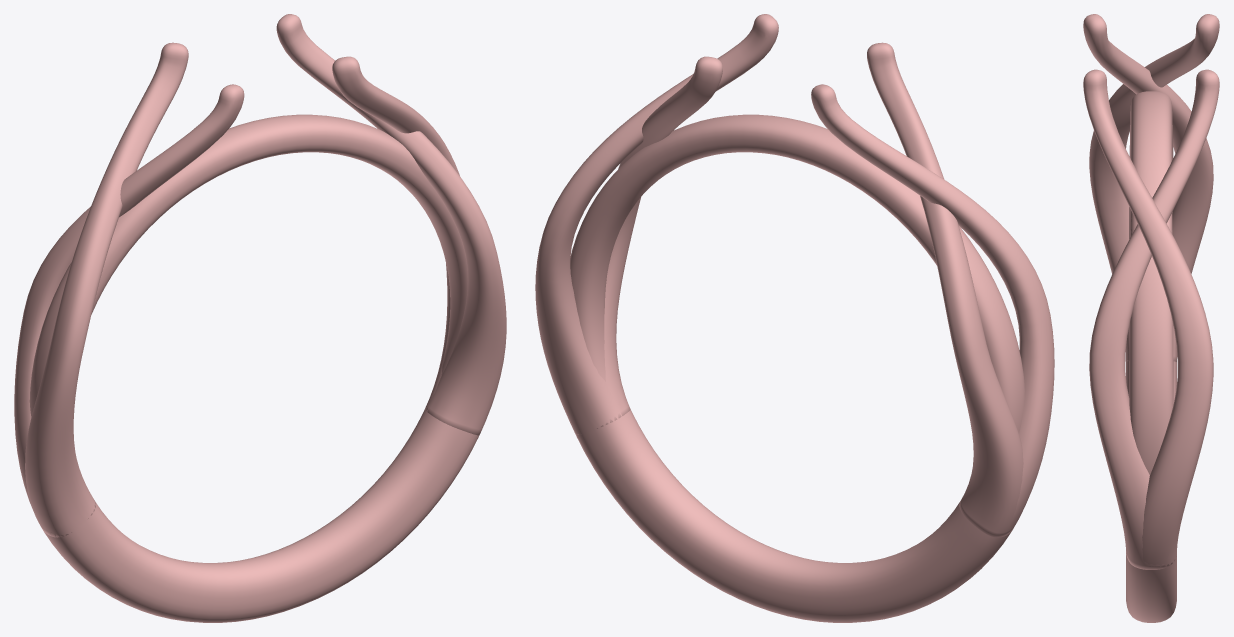
File: TWISTED.glb
3 renders of one model, left to right at view 1: azimuth 30°, elevation 25°; view 2: azimuth 150°, elevation 25°; view 3: azimuth 270°, elevation 25°, orthographic.
Visible parts, largest first — view 1: twisted; view 2: twisted; view 3: twisted.
Part boxes in pixels (bbox=[...]): twisted: bbox=[14, 14, 506, 622]; twisted: bbox=[535, 14, 1054, 622]; twisted: bbox=[1083, 14, 1219, 622].
Bounding box in the file's own units: 15.97 × 17.91 × 4.
